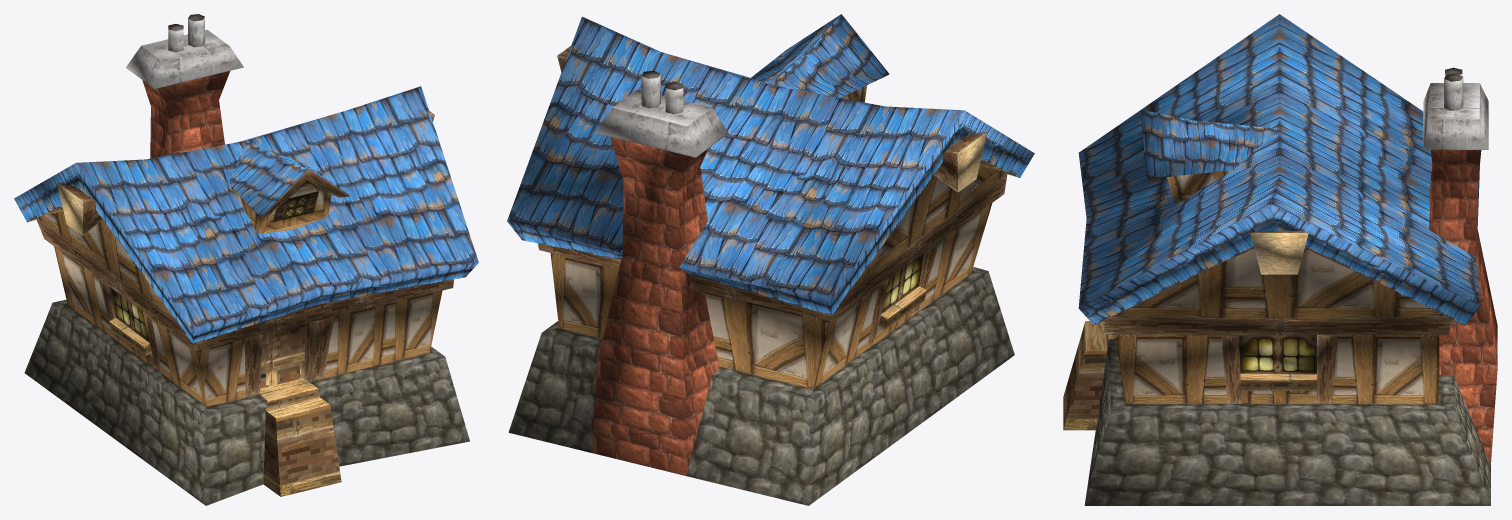
File: spiritLounge2.glb
3 views of the same model, side by side, from view 1: azimuth 30°, elevation 25°; view 2: azimuth 150°, elevation 25°; view 3: azimuth 270°, elevation 25° (orthographic). The views are drawn at different scales.
Visible parts, largest first — view 1: farm_closed_exterior3, farm_closed_exterior6, farm_closed_exterior1, farm_closed_exterior0, farm_closed_exterior7, farm_closed_exterior8, farm_closed_exterior5, farm_closed_exterior2, farm_closed_exterior4; view 2: farm_closed_exterior3, farm_closed_exterior6, farm_closed_exterior7, farm_closed_exterior0, farm_closed_exterior1, farm_closed_exterior8, farm_closed_exterior5, farm_closed_exterior4; view 3: farm_closed_exterior3, farm_closed_exterior6, farm_closed_exterior0, farm_closed_exterior1, farm_closed_exterior7, farm_closed_exterior8, farm_closed_exterior5, farm_closed_exterior4.
Part boxes in pixels (x1,y1,x2,y2): farm_closed_exterior3: (14, 86, 478, 343); farm_closed_exterior6: (24, 299, 469, 505); farm_closed_exterior1: (29, 111, 453, 496); farm_closed_exterior0: (37, 184, 442, 406); farm_closed_exterior7: (142, 71, 230, 158); farm_closed_exterior8: (126, 14, 243, 88); farm_closed_exterior5: (111, 191, 318, 341); farm_closed_exterior2: (259, 184, 331, 233); farm_closed_exterior4: (57, 182, 82, 235); farm_closed_exterior3: (507, 14, 1034, 315); farm_closed_exterior6: (508, 267, 1014, 505); farm_closed_exterior7: (592, 136, 719, 475); farm_closed_exterior0: (550, 85, 1007, 388); farm_closed_exterior1: (537, 46, 1018, 348); farm_closed_exterior8: (595, 70, 728, 157); farm_closed_exterior5: (881, 253, 924, 313); farm_closed_exterior4: (957, 132, 986, 192); farm_closed_exterior3: (1078, 14, 1480, 325); farm_closed_exterior6: (1084, 320, 1490, 505); farm_closed_exterior0: (1115, 170, 1445, 404); farm_closed_exterior1: (1063, 231, 1452, 430); farm_closed_exterior7: (1429, 150, 1497, 465); farm_closed_exterior8: (1423, 67, 1488, 149); farm_closed_exterior5: (1238, 334, 1316, 373); farm_closed_exterior4: (1250, 233, 1308, 274).
Bounding box in the file's own units: 18.87 × 16.88 × 18.02.
9 materials, 9 textured.
